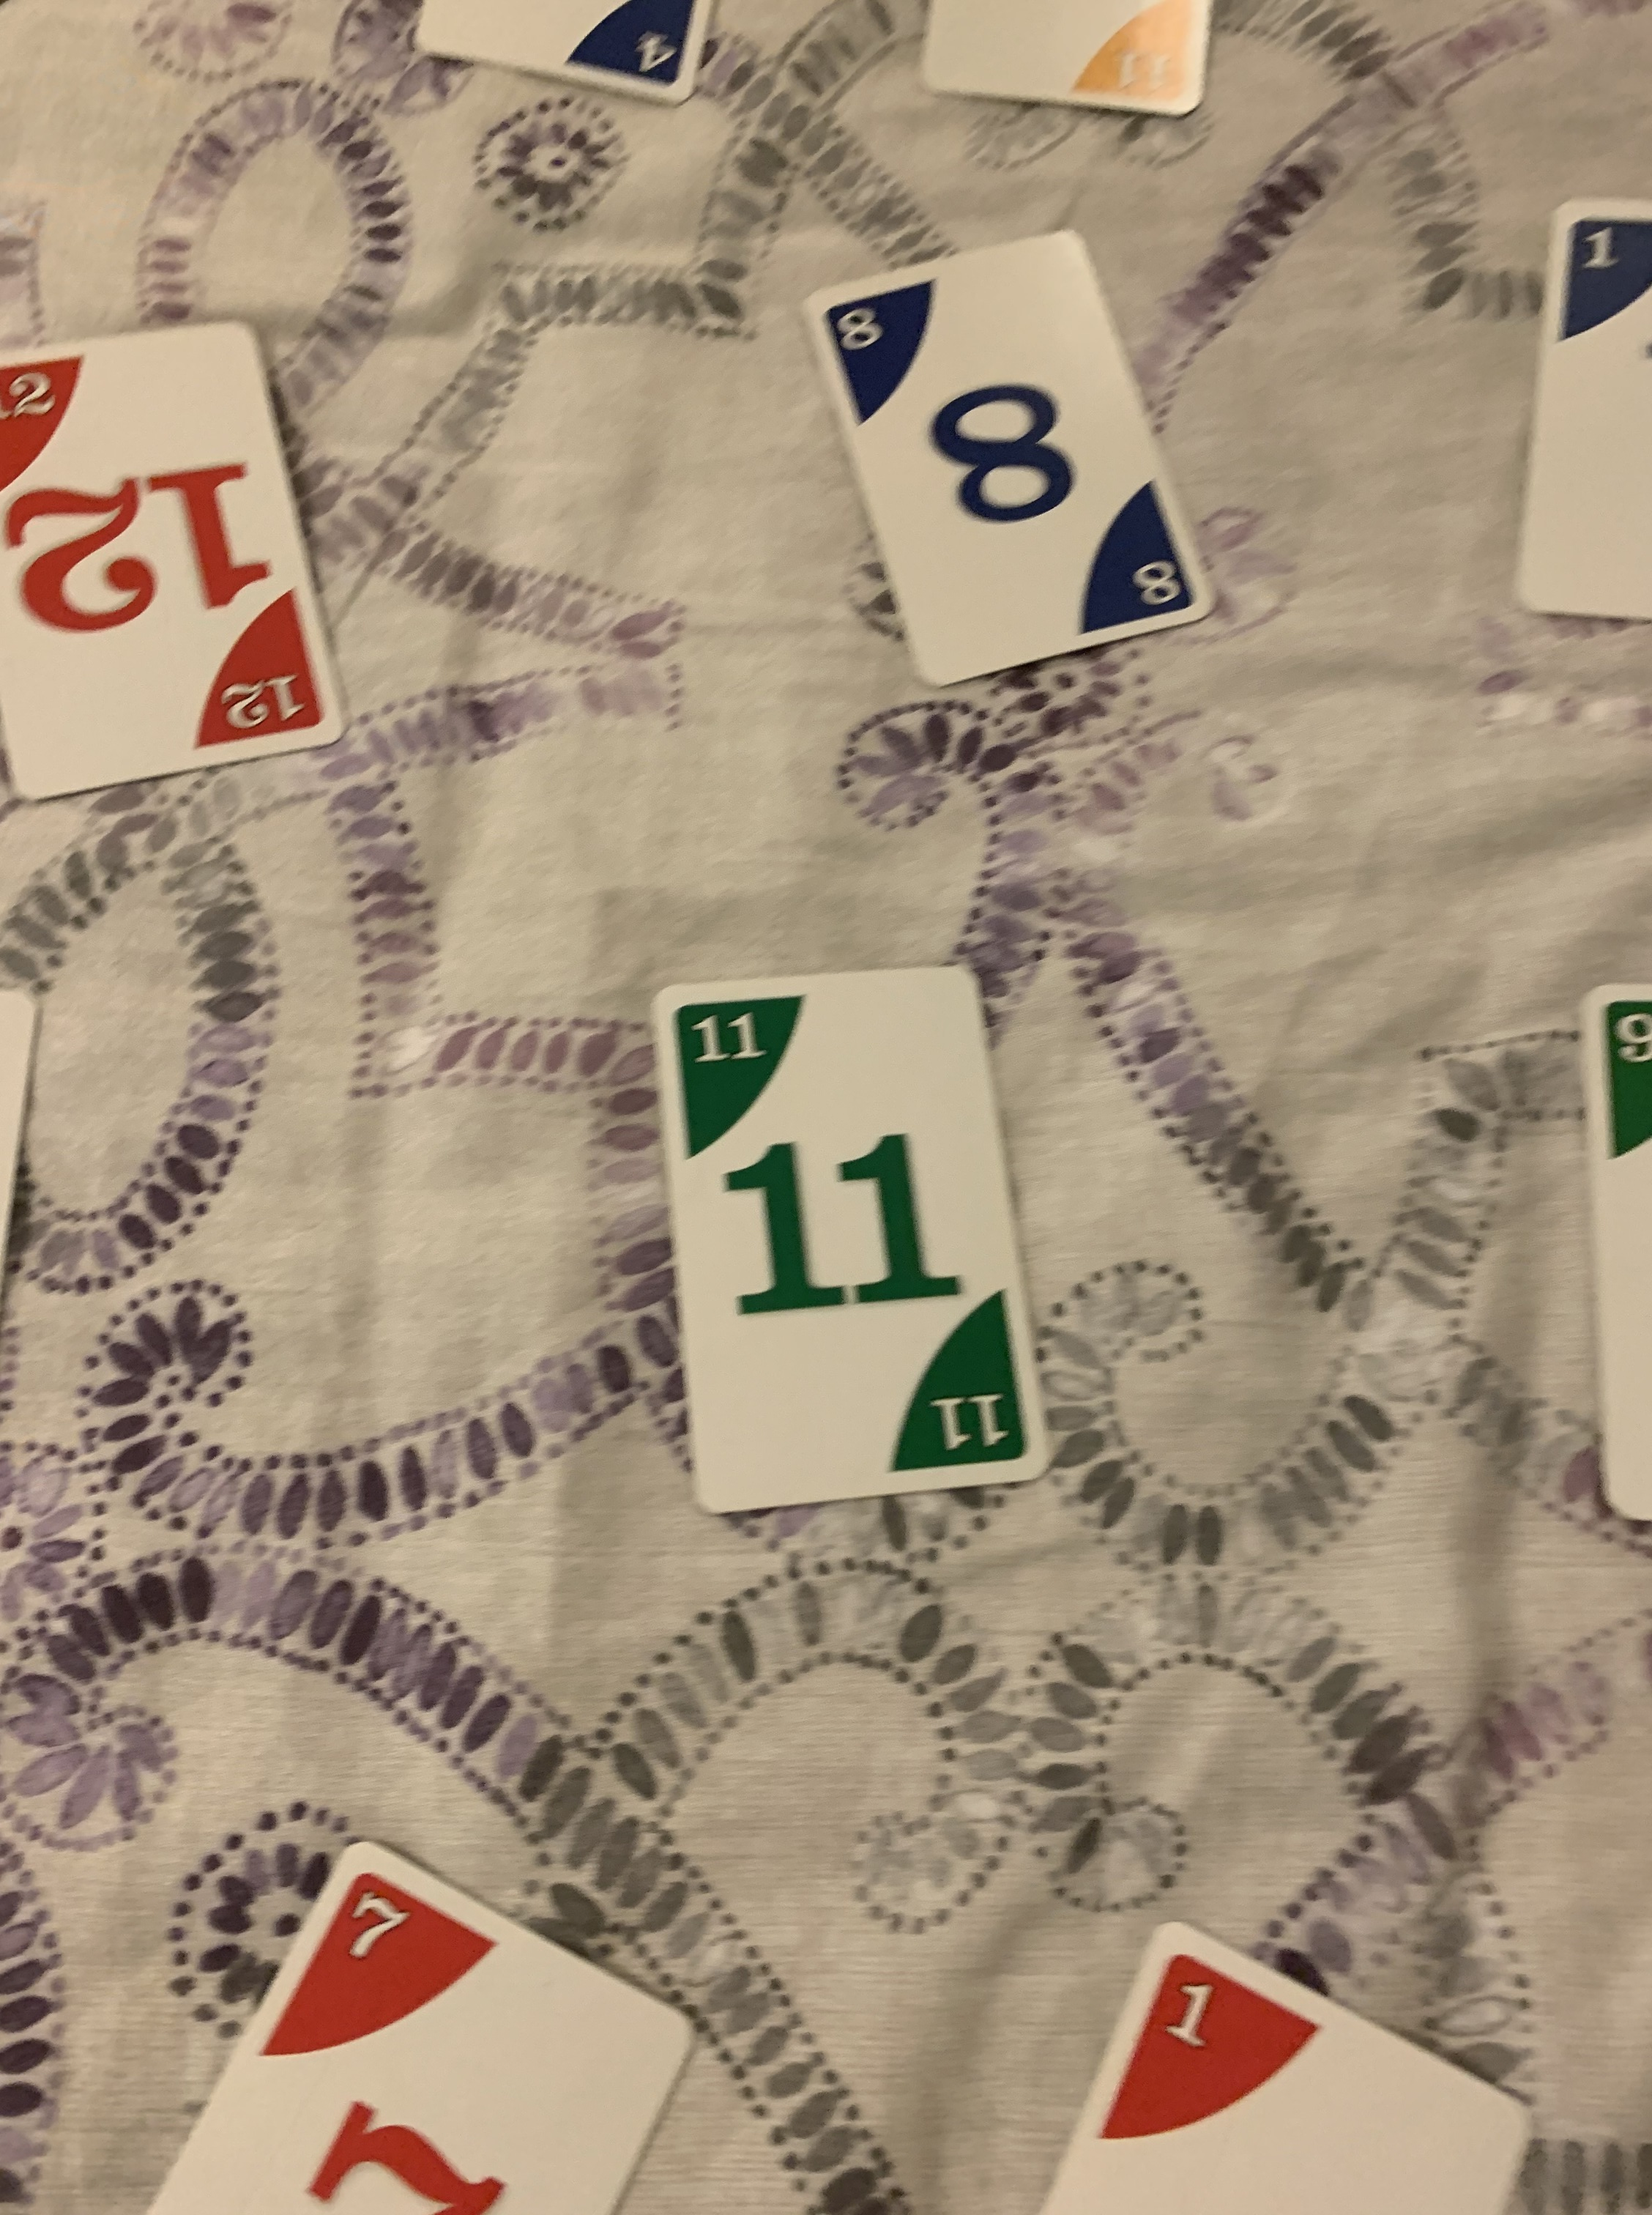eight: (788, 226, 1216, 687)
eleven: (647, 965, 1057, 1521)
twelve: (0, 316, 352, 814)
